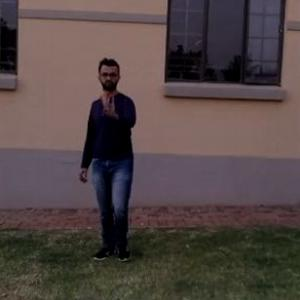takeoff-hand: (96, 83, 128, 122)
